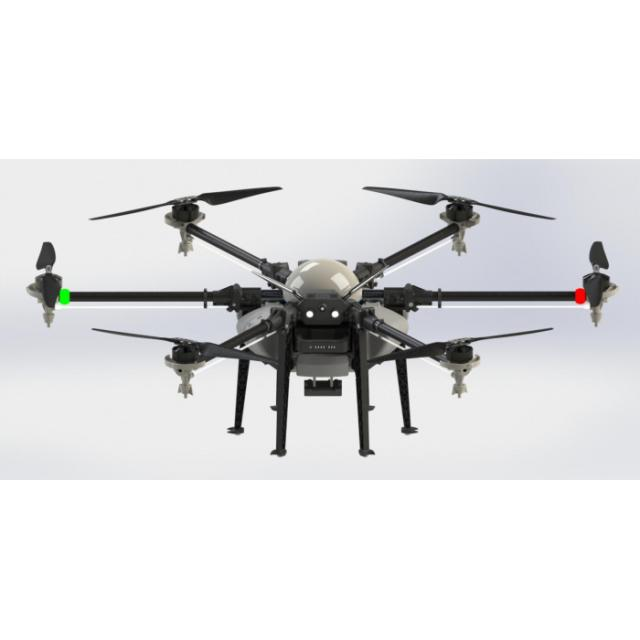drone: (9, 150, 640, 492)
